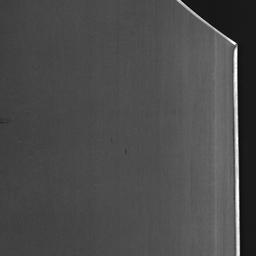Crescent gap: (185, 0, 237, 42)
